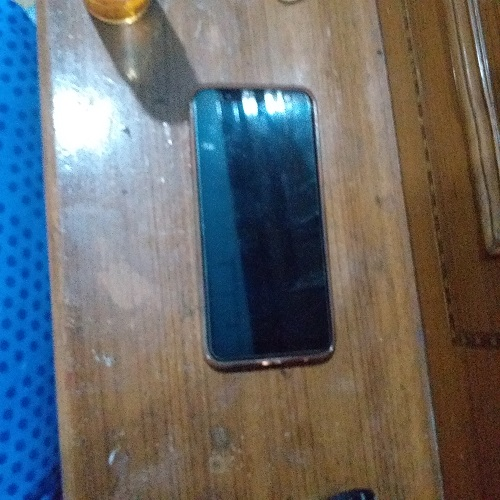mobile: (182, 66, 354, 385)
